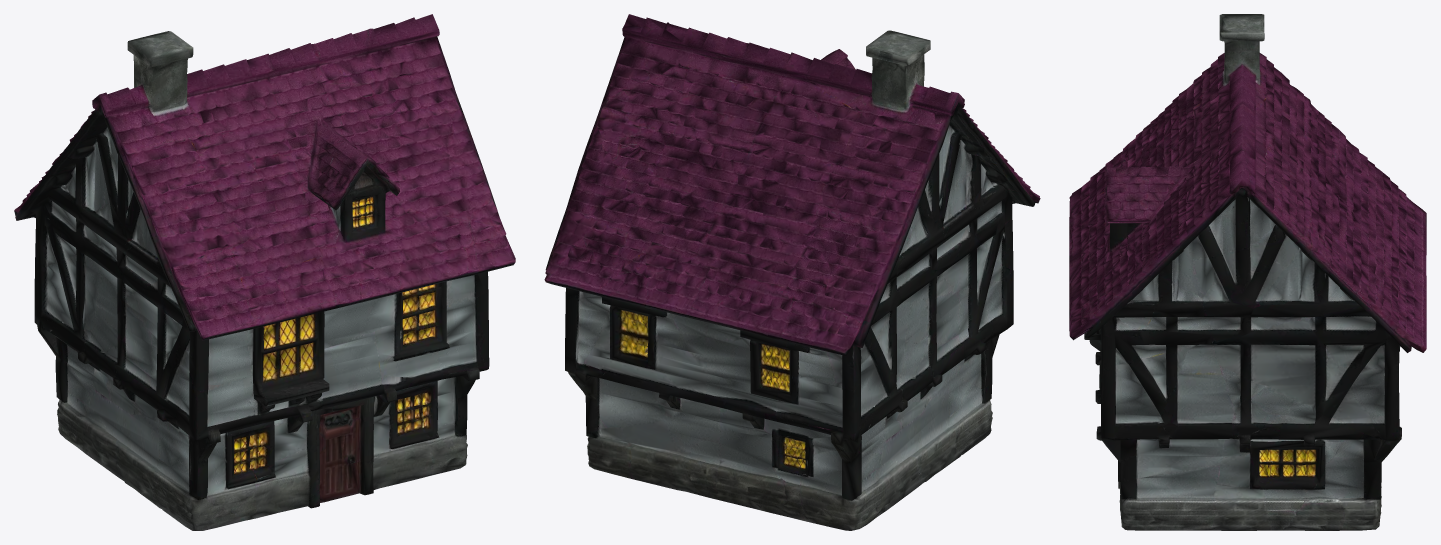
Rendered from purple-house.glb.
The picture shows the model from 3 angles, left to right: view 1: azimuth 30°, elevation 25°; view 2: azimuth 150°, elevation 25°; view 3: azimuth 270°, elevation 25°; orthographic projection. The views are drawn at different scales.
Size of the model in its own units: 1.53 by 1.9 by 1.54.
1 material, 1 textured.
